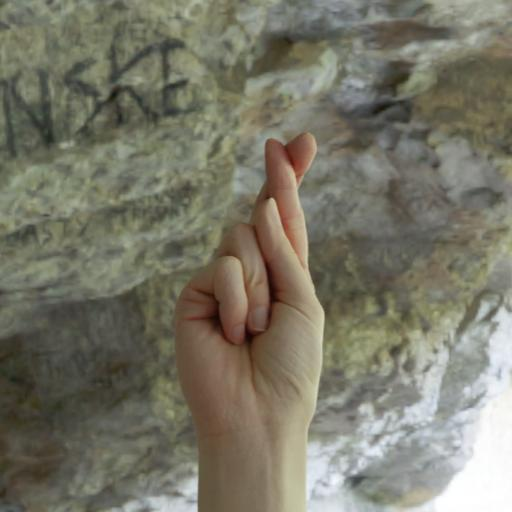R: (159, 124, 344, 437)
